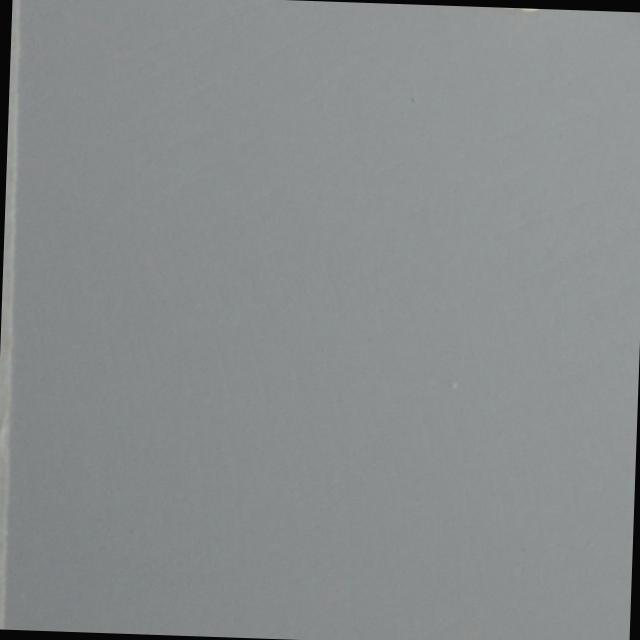dañado: (443, 4, 567, 25)
